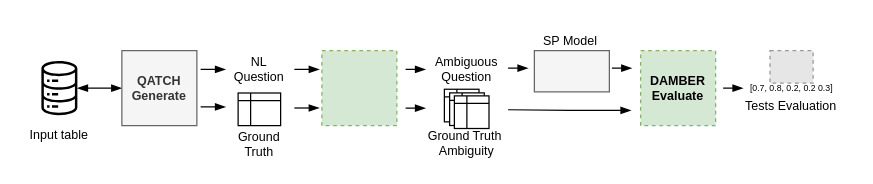
Image size: 873x184. Some labels were removed from this diagram. Grey dashed boxes stand in for pictures. Each missing label, with the centre of its shape:
"DAMBER Ambiguity Injection" belongs at [359,87].
"Predict" belongs at [571,70].
